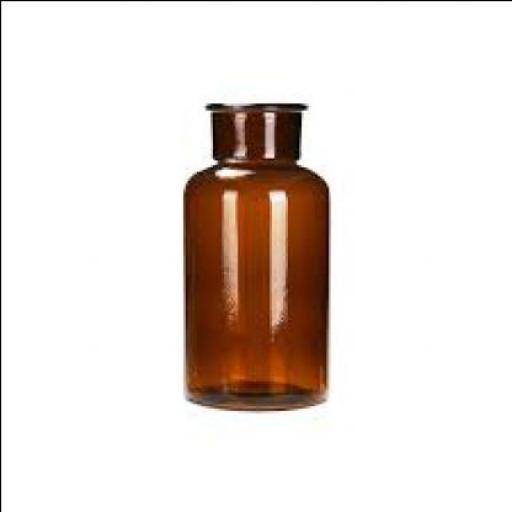glass: (179, 100, 326, 407)
